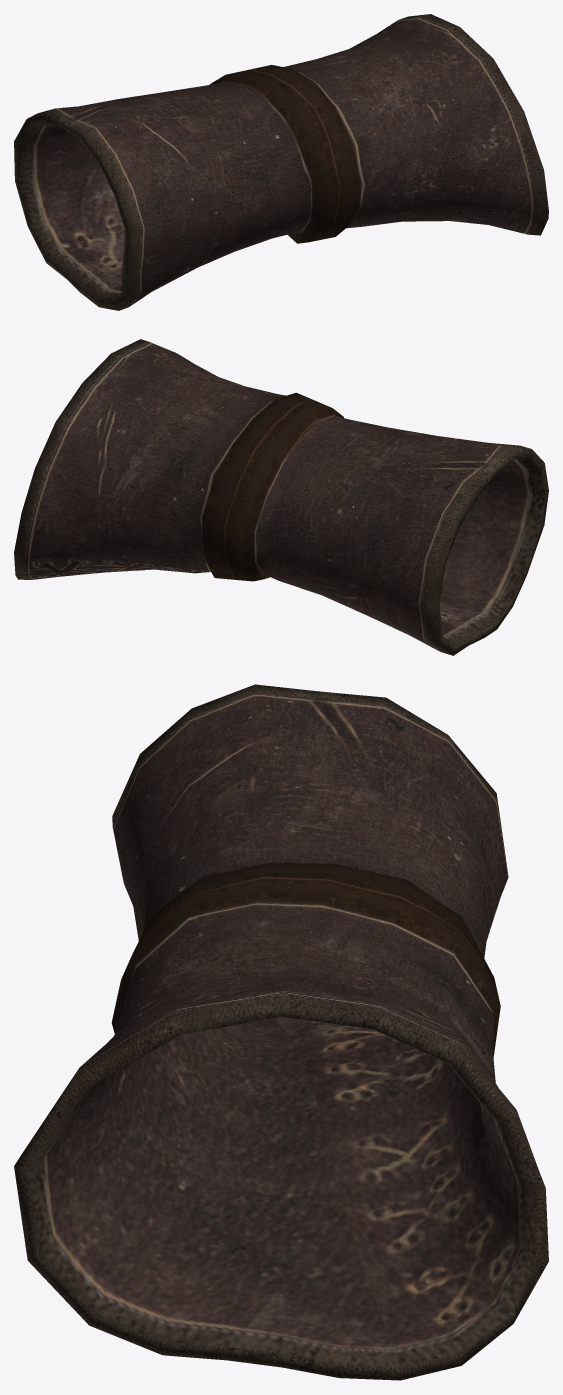
The model's file is LeatherModel.FBX.
3 views of the same model, one above another, from view 1: azimuth 30°, elevation 25°; view 2: azimuth 150°, elevation 25°; view 3: azimuth 270°, elevation 25° (orthographic). The views are drawn at different scales.
Parts seen in each view (by area): view 1: Leather Armband; view 2: Leather Armband; view 3: Leather Armband.
Part boxes in pixels (bbox=[...]): Leather Armband: bbox=[14, 14, 548, 310]; Leather Armband: bbox=[14, 339, 548, 655]; Leather Armband: bbox=[14, 684, 548, 1380].
Size of the model in its own units: 6.39 by 2.73 by 3.9.
